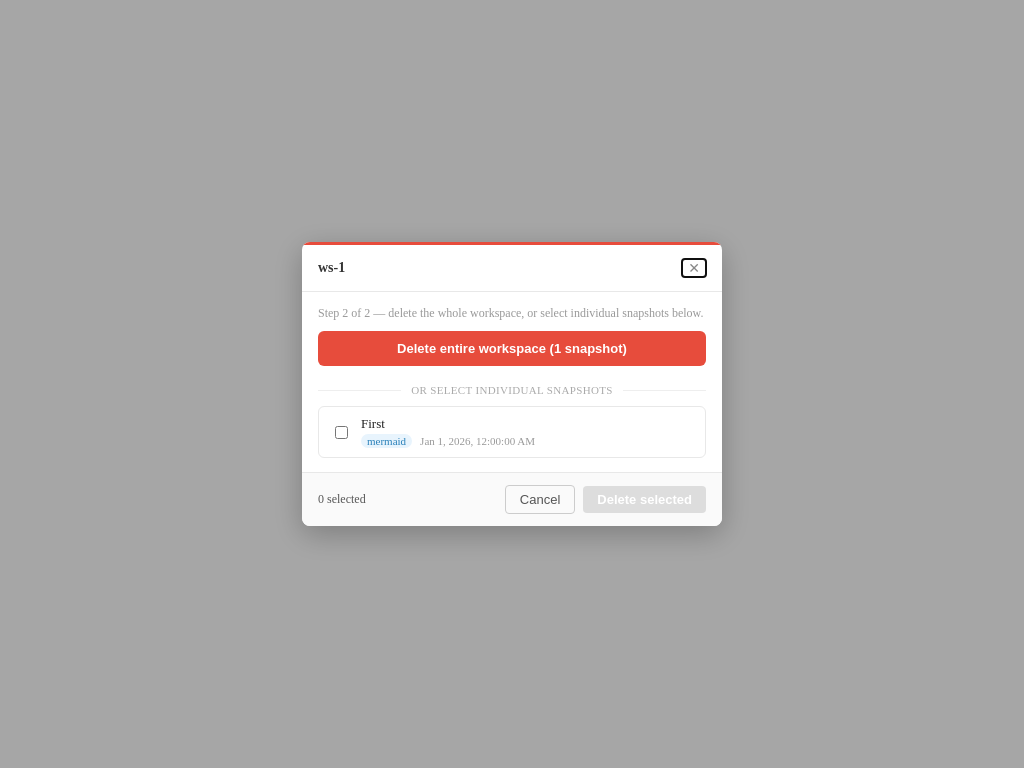
Test: DeleteExportModal.svelte › shows the workspace name in the whole-workspace delete confirm text (F34)
Click the button "Delete entire workspace (1 snapshot)".
click(512, 348)  # box [318,331,706,366]
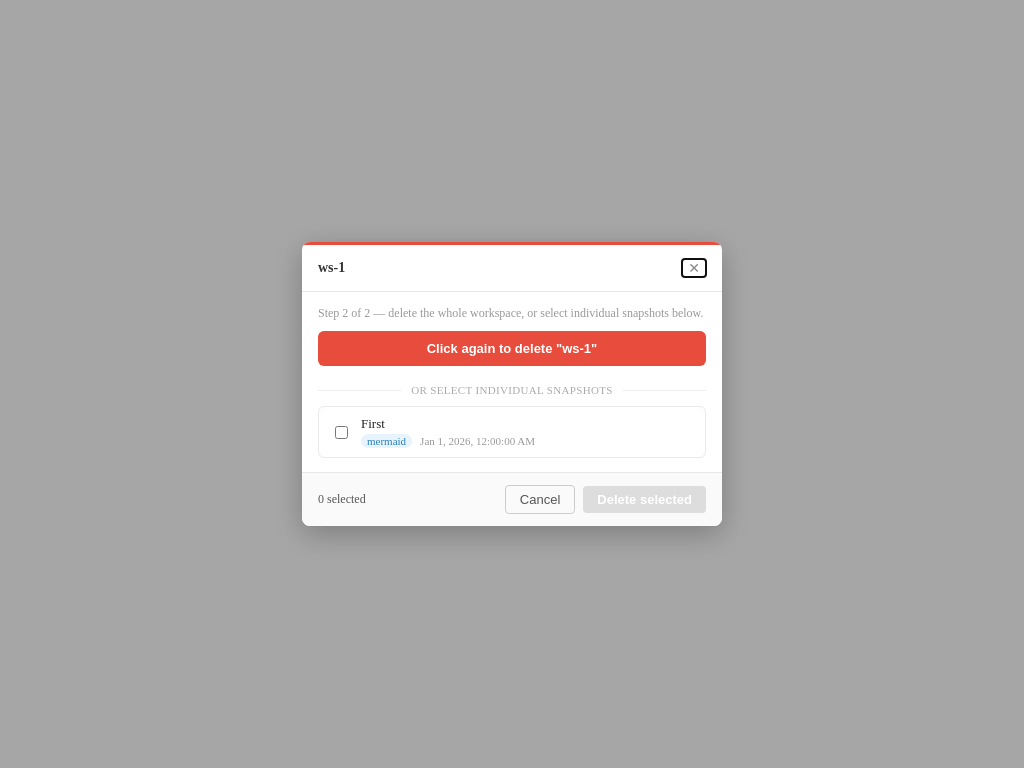
Expected: the button "Click again to delete \"ws-1\"" is shown, [318,331,706,366]
